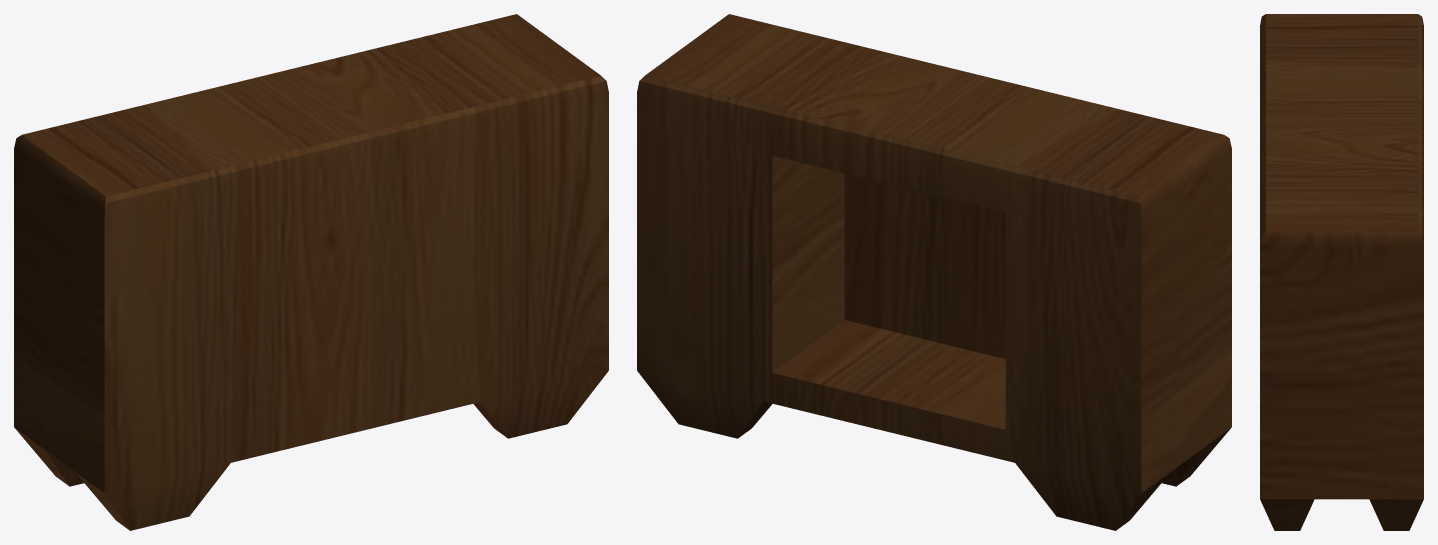
The model's file is Commode.fbx.
3 views of the same model, side by side, from view 1: azimuth 30°, elevation 25°; view 2: azimuth 150°, elevation 25°; view 3: azimuth 270°, elevation 25° (orthographic). The views are drawn at different scales.
Parts seen in each view (by area): view 1: Commode; view 2: Commode; view 3: Commode.
Boxes of the visible parts, box(x1,y1,x2,y2) form: Commode: box(14, 14, 608, 530); Commode: box(637, 14, 1231, 530); Commode: box(1260, 14, 1423, 530).
Size of the model in its own units: 517 by 338 by 161.
